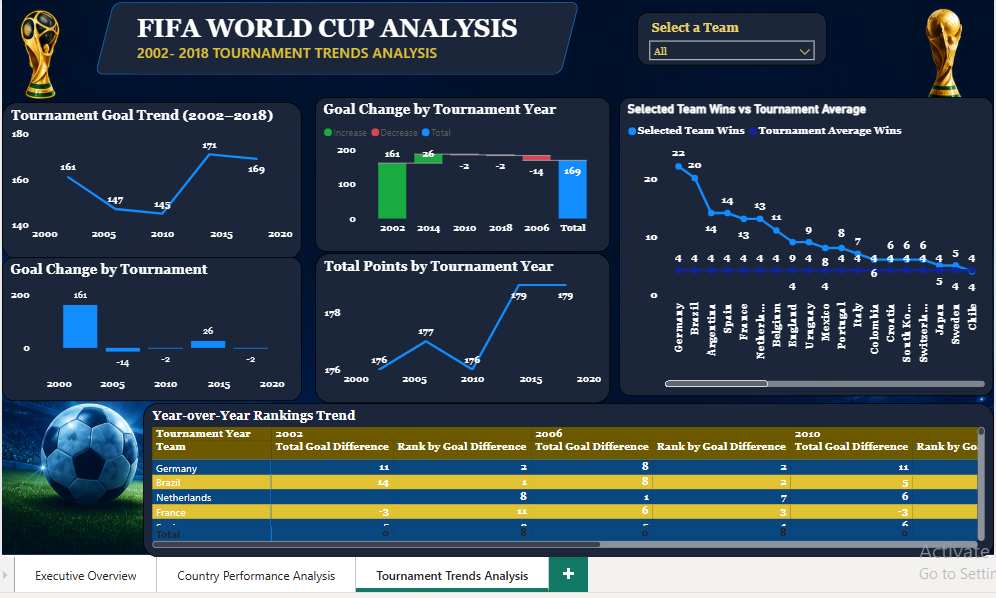

This screenshot's page, from the dashboard's own definition file:
{"tool":"powerbi","page":{"name":"Tournament Trends Analysis","canvas":[1280,720],"ordinal":2},"visuals":[{"type":"group","id":"g1","title":"Group 1","box":[120.5,4.3,625,93.5],"z":0},{"type":"shape","box":[120.5,4.3,625,93.5],"z":0,"group":"g1"},{"type":"textbox","box":[168.9,15.6,544.5,81.3],"z":1000,"group":"g1"},{"type":"pivotTable","title":"Year-over-Year Rankings Trend","fields":{"Rows":["DimCountry.Team"],"Values":["Measures Table.Total Goal Difference","Measures Table.Rank by Goal Difference"],"Columns":["DimYear.Tournament Year"]},"box":[182.4,520.9,1097.6,198.8],"z":1000},{"type":"lineChart","fields":{"Y":["Measures Table.Total Points"],"Category":["DimYear.Tournament Year"]},"box":[403.9,327.4,381.3,194.2],"z":2000},{"type":"lineChart","title":"Tournament Goal Trend (2002–2018)","fields":{"Y":["Measures Table.Total Goals scored"],"Category":["DimYear.Tournament Year"]},"box":[0,133.2,386.9,202.7],"z":3000},{"type":"clusteredColumnChart","title":"Goal Change by Tournament","fields":{"Y":["Measures Table.Goal Change"],"Category":["DimYear.Tournament Year"]},"box":[0,333.1,386.9,185.7],"z":4000},{"type":"waterfallChart","fields":{"Category":["DimYear.Tournament Year"],"Y":["Measures Table.Goal Change"]},"box":[403.9,126.1,381.3,199.8],"z":5000},{"type":"slicer","fields":{"Values":["DimCountry.Team"]},"box":[819.2,17,245.2,69.4],"z":6000},{"type":"lineChart","title":"Selected Team Wins vs Tournament Average","fields":{"Category":["DimCountry.Team"],"Y":["Measures Table.Selected Team Wins","Measures Table.Tournament Average Wins"]},"box":[796.5,126.1,483.3,385.5],"z":7000}]}

Visuals, with their boxes on the page's 1280x720 design canvas (x1, y1, x2, y2). These are canvas units, not pixel positions in the 996x598 screenshot, which may show the page scaled, cropped or inside an application window:
"Group 1" group: 120/4/746/98
shape: 120/4/746/98
textbox: 169/16/713/97
"Year-over-Year Rankings Trend" pivotTable: 182/521/1280/720
lineChart - Measures Table.Total Points x DimYear.Tournament Year: 404/327/785/522
"Tournament Goal Trend (2002–2018)" lineChart: 0/133/387/336
"Goal Change by Tournament" clusteredColumnChart: 0/333/387/519
waterfallChart - DimYear.Tournament Year x Measures Table.Goal Change: 404/126/785/326
slicer - DimCountry.Team: 819/17/1064/86
"Selected Team Wins vs Tournament Average" lineChart: 796/126/1280/512
